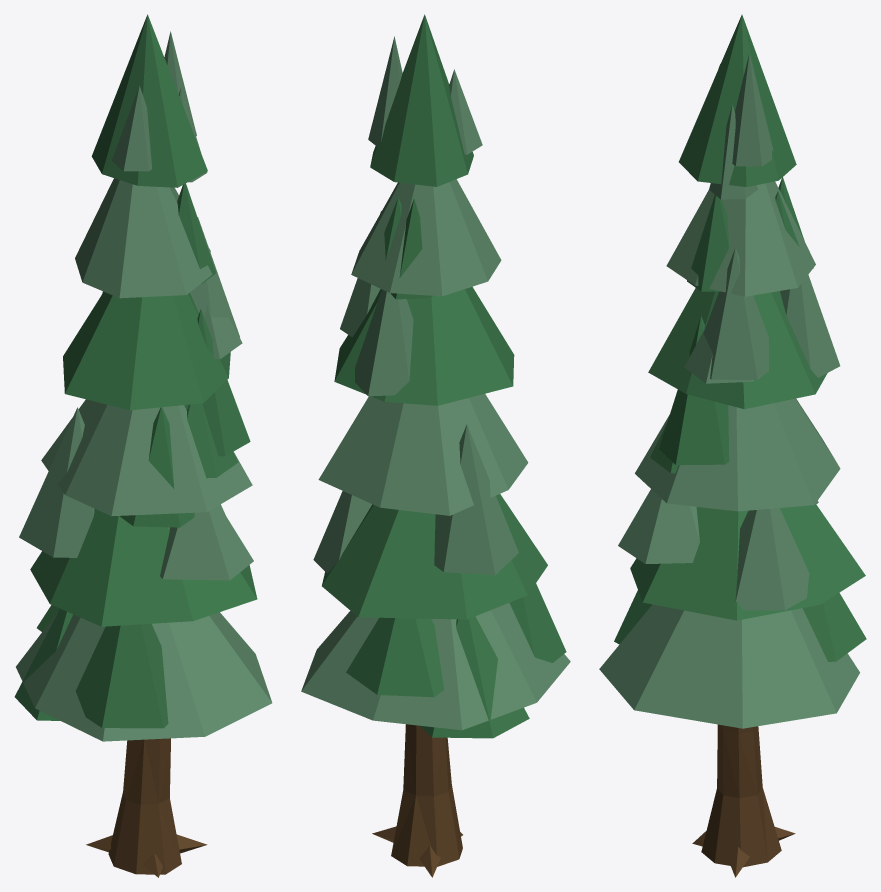
File: HS_LP_Tree_WhitePine_01.fbx
3 renders of one model, left to right at view 1: azimuth 30°, elevation 25°; view 2: azimuth 150°, elevation 25°; view 3: azimuth 270°, elevation 25°, orthographic.
Visible parts, largest first — view 1: HS_LP_Tree_WhitePine_01; view 2: HS_LP_Tree_WhitePine_01; view 3: HS_LP_Tree_WhitePine_01.
Boxes of the visible parts, <box> form: HS_LP_Tree_WhitePine_01: <box>14,14,272,877</box>; HS_LP_Tree_WhitePine_01: <box>301,14,570,877</box>; HS_LP_Tree_WhitePine_01: <box>599,14,866,877</box>.
Size of the model in its own units: 225 by 822 by 237.
